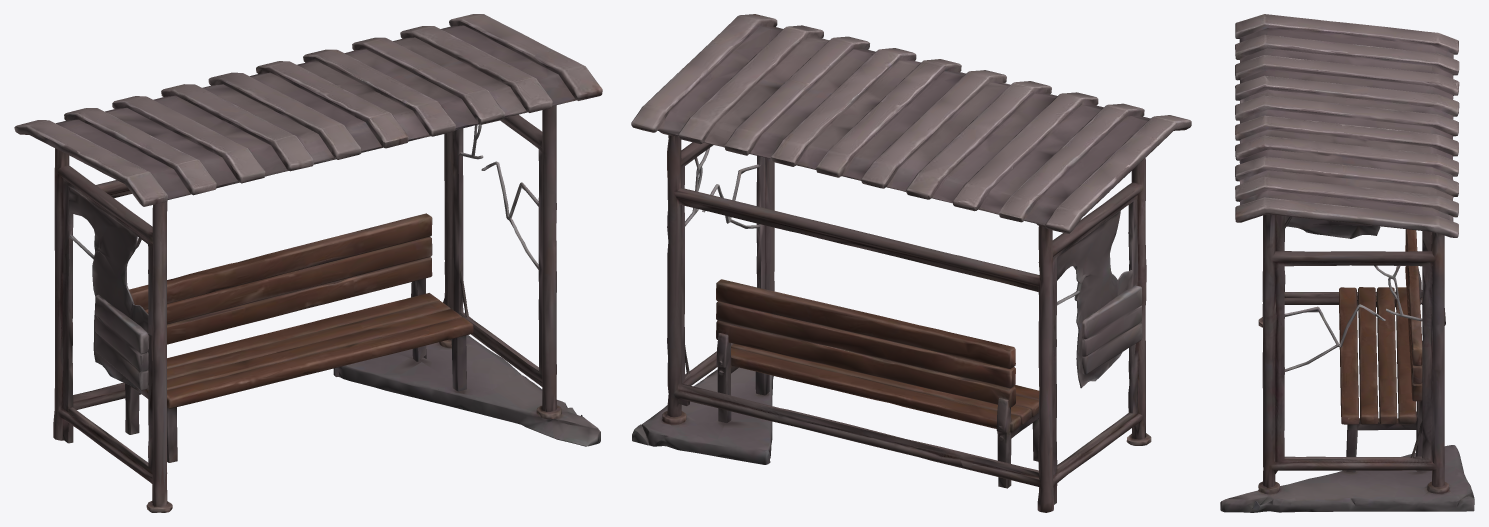
File: ext_bus_stop_c_idle.glb
3 renders of one model, left to right at view 1: azimuth 30°, elevation 25°; view 2: azimuth 150°, elevation 25°; view 3: azimuth 270°, elevation 25°, orthographic. The views are drawn at different scales.
Visible parts, largest first — view 1: tripo_node_521afb8b-f256-47c4-a0d0-626b207b0327; view 2: tripo_node_521afb8b-f256-47c4-a0d0-626b207b0327; view 3: tripo_node_521afb8b-f256-47c4-a0d0-626b207b0327.
Part boxes in pixels (left/top/right/bottom): tripo_node_521afb8b-f256-47c4-a0d0-626b207b0327: left=14, top=14, right=602, bottom=512; tripo_node_521afb8b-f256-47c4-a0d0-626b207b0327: left=631, top=14, right=1191, bottom=512; tripo_node_521afb8b-f256-47c4-a0d0-626b207b0327: left=1220, top=14, right=1474, bottom=512.
Size of the model in its own units: 3.51 by 2.6 by 1.94.
1 material, 1 textured.
